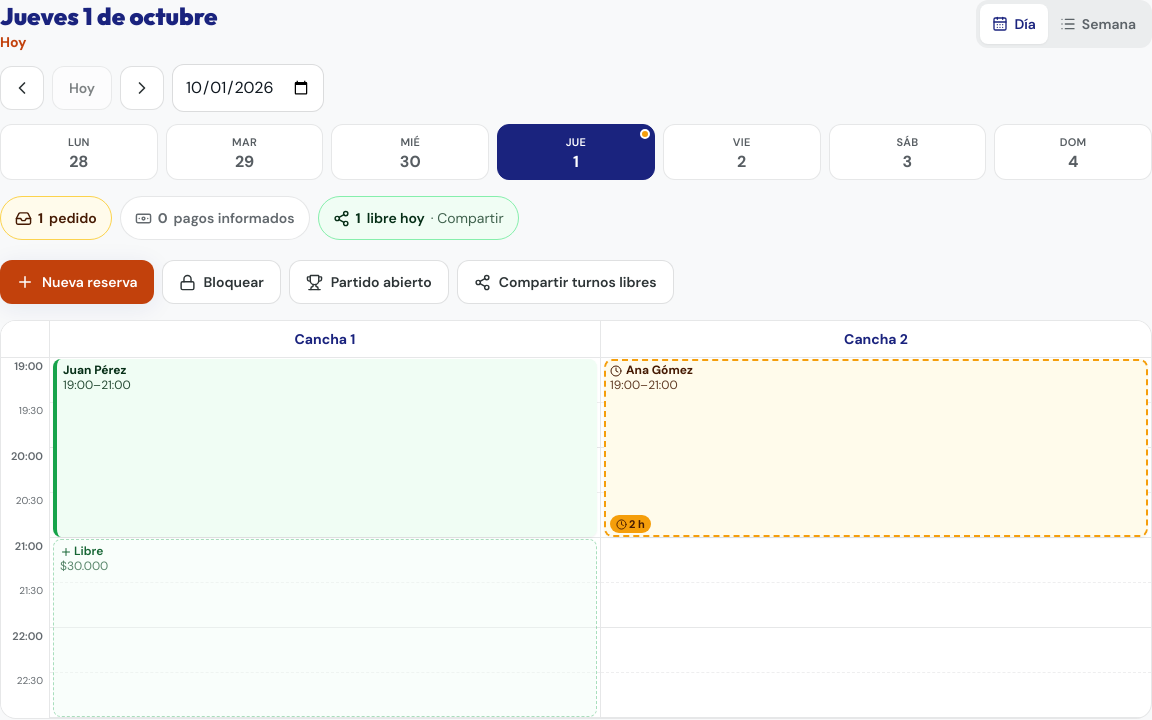
Test case: agenda del club › confirma un pedido desde el panel de pendientes
This screenshot has width=1152, height=720.
Click the button with aria-label "1 pedido sin responder".
click(56, 218)  # box x1=0 y1=196 x2=112 y2=240
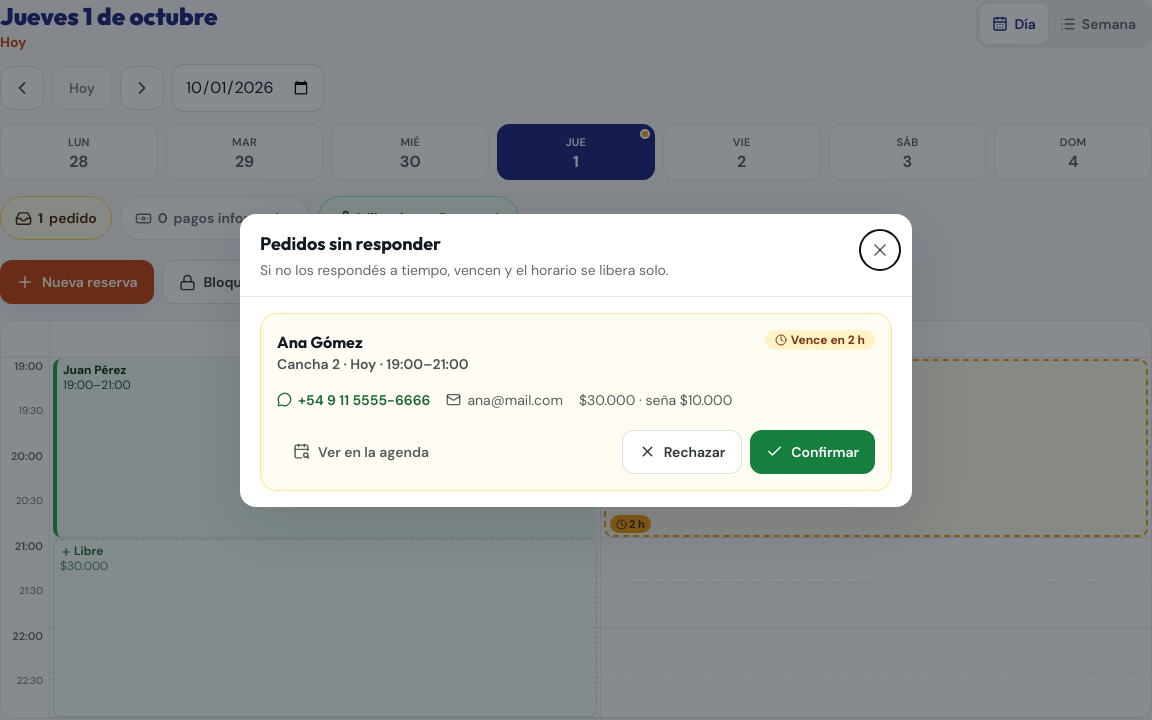
Expected: the heading "Ana Gómez" is shown, x1=277 y1=332 x2=363 y2=352
Click the button "Confirmar".
click(813, 452)  # box x1=750 y1=430 x2=875 y2=474
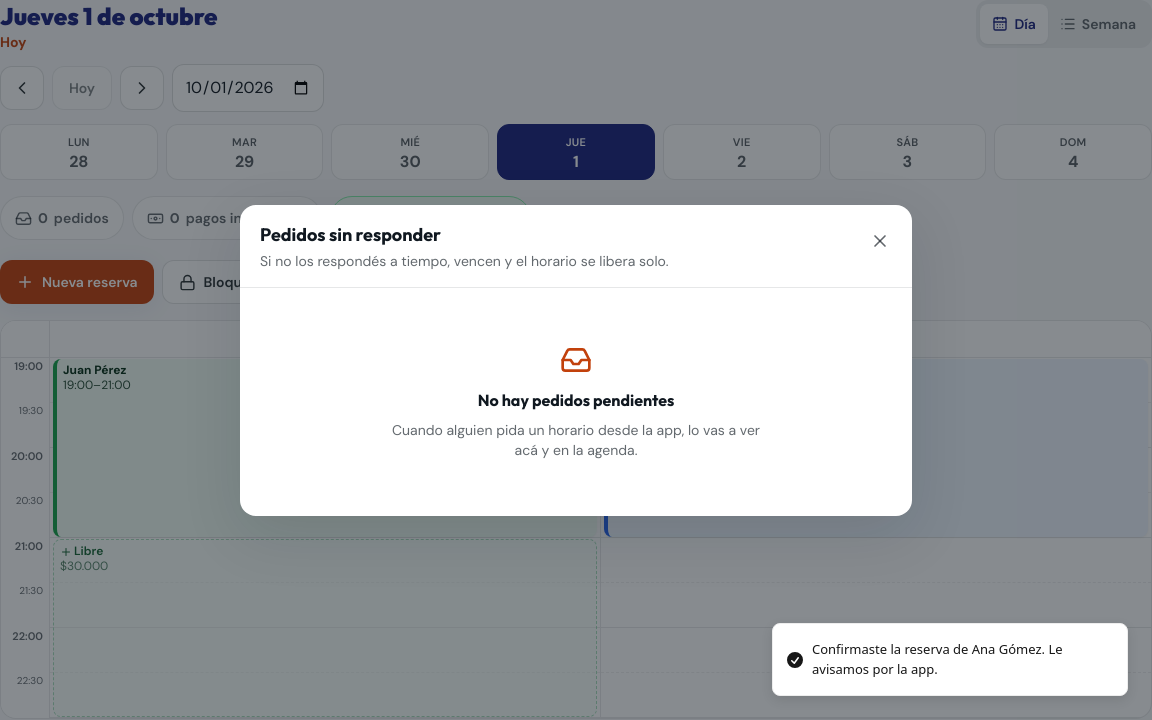
Expected: the text "Confirmaste la reserva de Ana Gómez. Le avisamos por la app." is shown, x1=812 y1=640 x2=1063 y2=678
Expected: the heading "No hay pedidos pendientes" is shown, x1=478 y1=388 x2=674 y2=412
